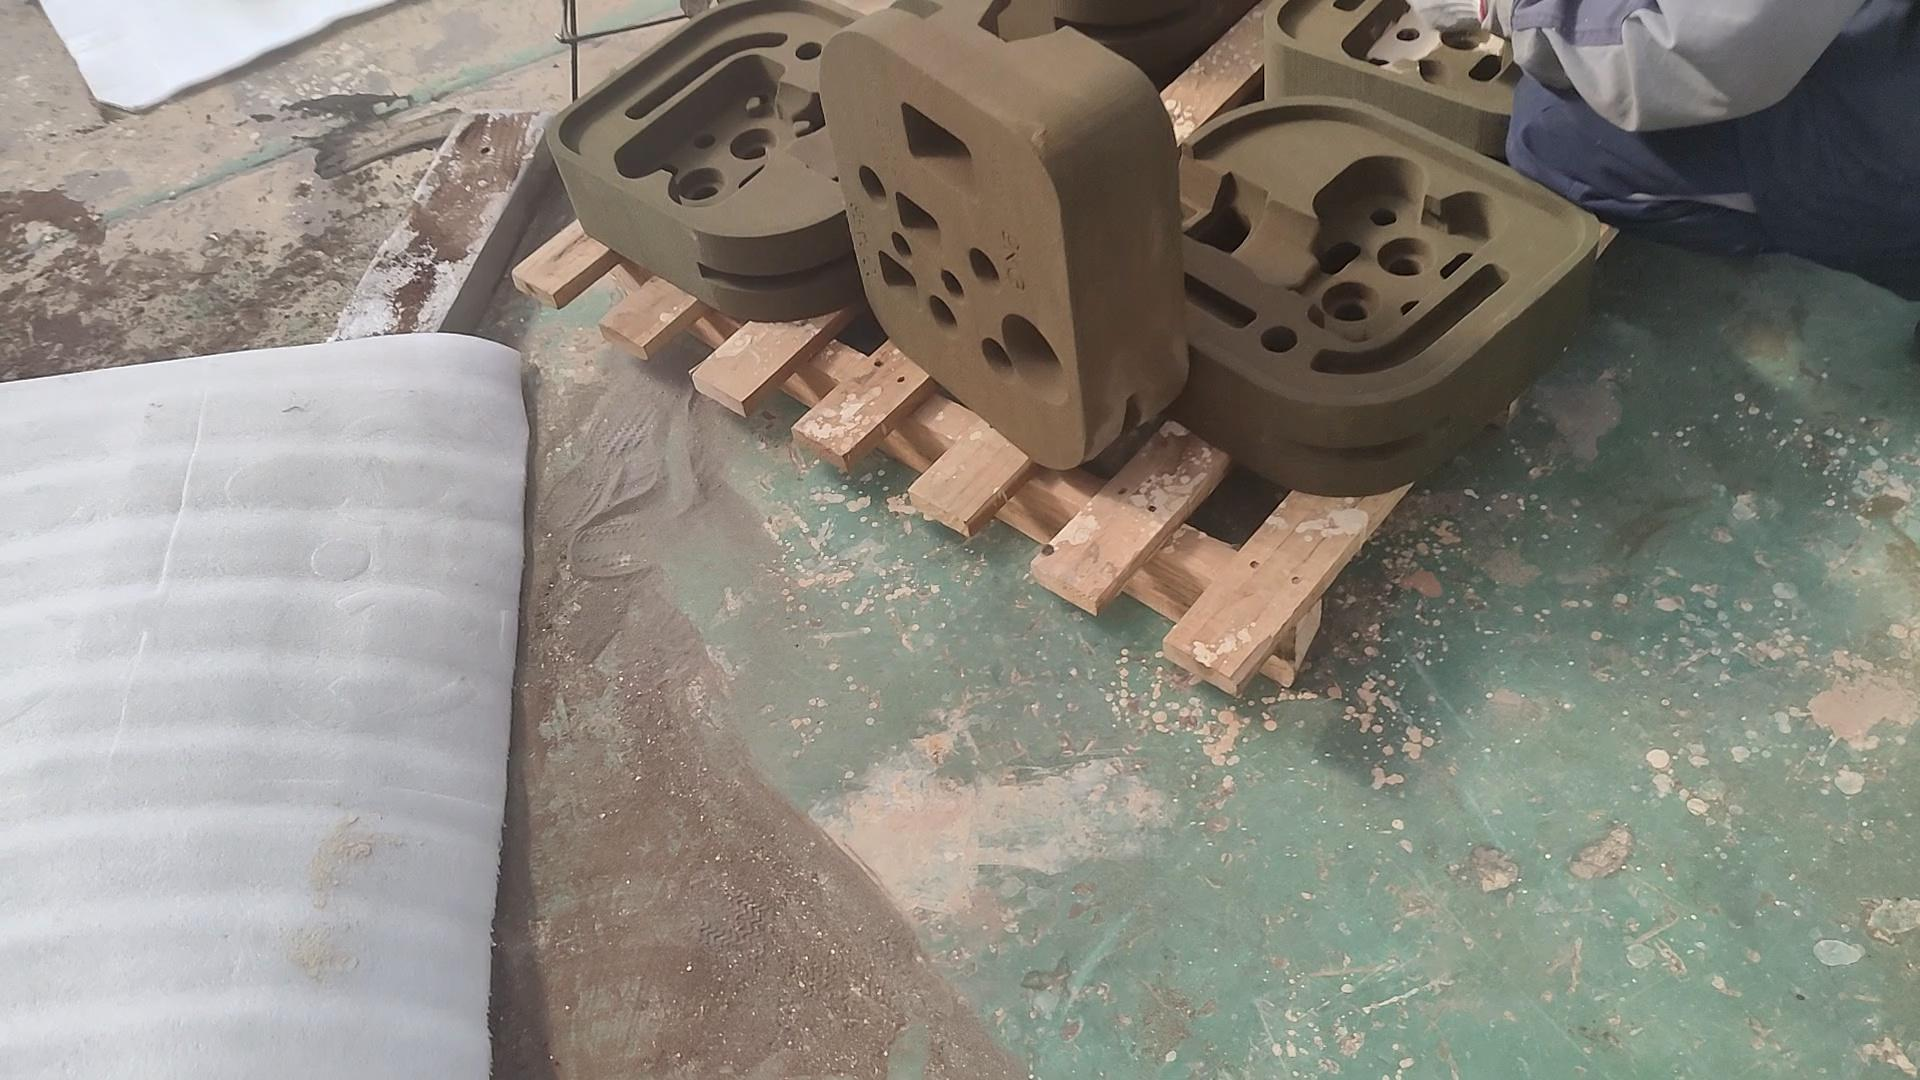pouring hole: (1001, 314, 1067, 405)
